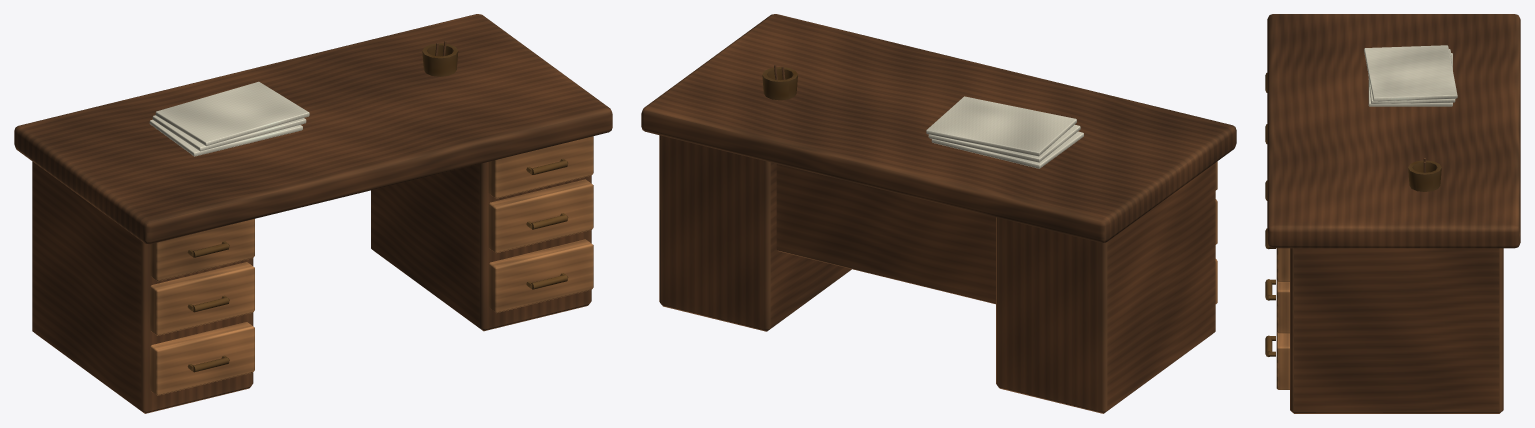
File: Furn_Council_PresidentDesk.fbx
3 views of the same model, side by side, from view 1: azimuth 30°, elevation 25°; view 2: azimuth 150°, elevation 25°; view 3: azimuth 270°, elevation 25° (orthographic). The views are drawn at different scales.
Visible parts, largest first — view 1: Furn_Council_PresidentDesk; view 2: Furn_Council_PresidentDesk; view 3: Furn_Council_PresidentDesk.
Boxes of the visible parts, x1,y1,x2,y2 form: Furn_Council_PresidentDesk: (14, 14, 612, 413); Furn_Council_PresidentDesk: (641, 14, 1236, 413); Furn_Council_PresidentDesk: (1265, 14, 1520, 413).
Bounding box in the file's own units: 1.8 × 0.85 × 0.9.
Materials: 4 (4 with a texture image).
